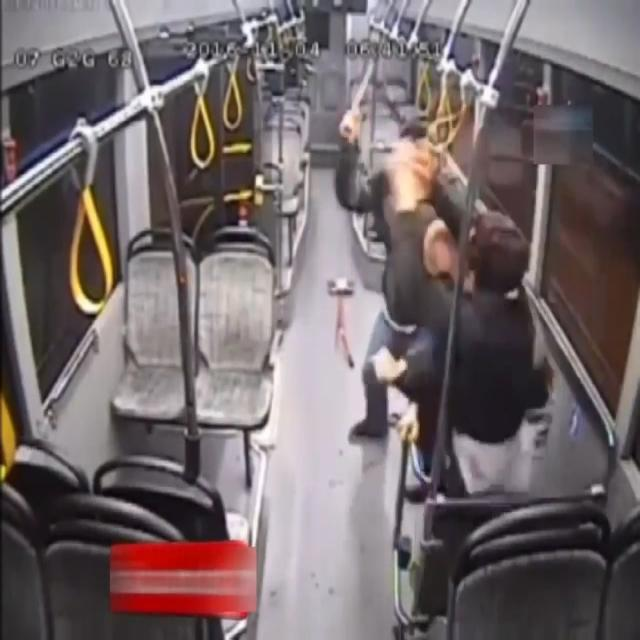fight: (302, 56, 570, 614)
